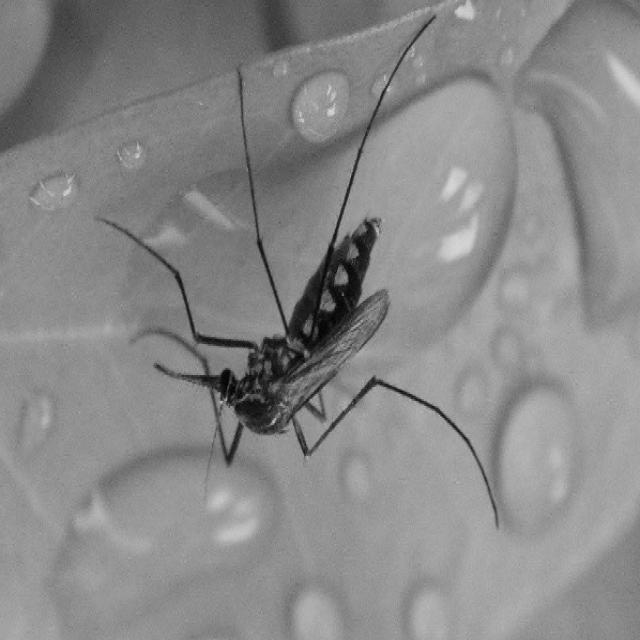Mosquito: (140, 57, 458, 503)
